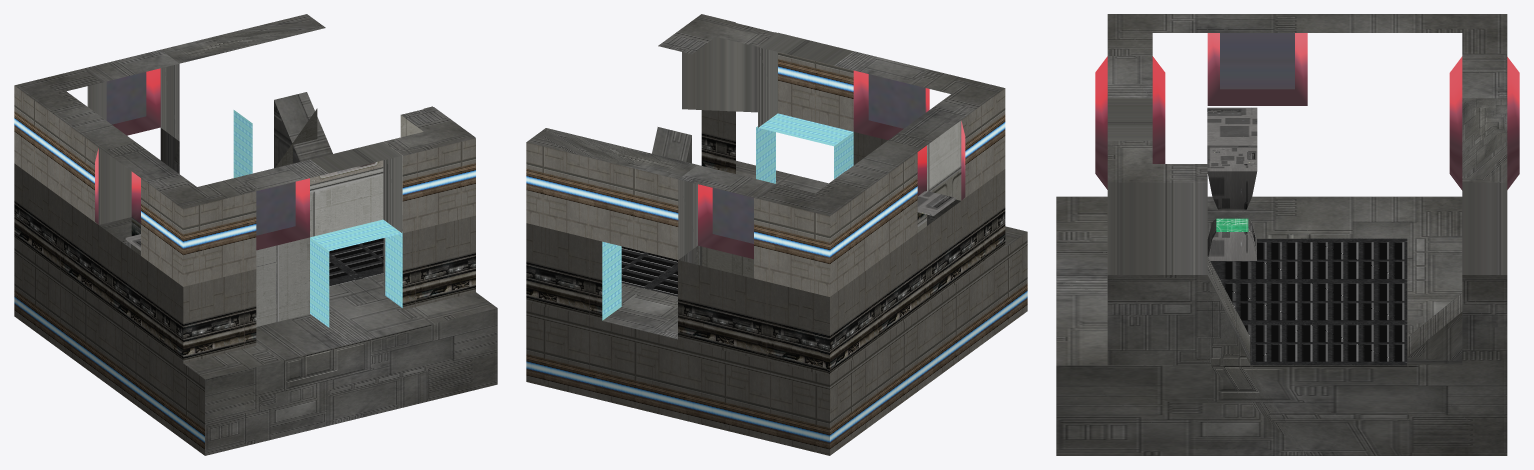
The model's file is room0.gltf.
3 views of the same model, side by side, from view 1: azimuth 30°, elevation 25°; view 2: azimuth 150°, elevation 25°; view 3: azimuth 270°, elevation 25° (orthographic). The views are drawn at different scales.
Visible parts, largest first — view 1: polymsh20, a_doorway_mr_frodo, polymsh_detached39, polymsh_detached; view 2: polymsh20, a_doorway_mr_frodo, polymsh_detached39, polymsh_detached74; view 3: polymsh20, polymsh_detached74, a_doorway_mr_frodo, polymsh_detached39.
Boxes of the visible parts, box(x1,y1,x2,y2) form: polymsh20: box(14, 14, 497, 455); a_doorway_mr_frodo: box(237, 142, 402, 327); polymsh_detached39: box(106, 68, 160, 135); polymsh_detached: box(275, 108, 317, 167); polymsh20: box(526, 14, 1027, 455); a_doorway_mr_frodo: box(756, 32, 929, 183); polymsh_detached39: box(698, 184, 753, 259); polymsh_detached74: box(824, 171, 955, 215); polymsh20: box(1056, 14, 1507, 455); polymsh_detached74: box(1207, 107, 1257, 260); a_doorway_mr_frodo: box(1095, 56, 1165, 189); polymsh_detached39: box(1449, 56, 1519, 190).
Bounding box in the file's own units: 16.5 × 12.07 × 18.56.
12 materials, 12 textured.
